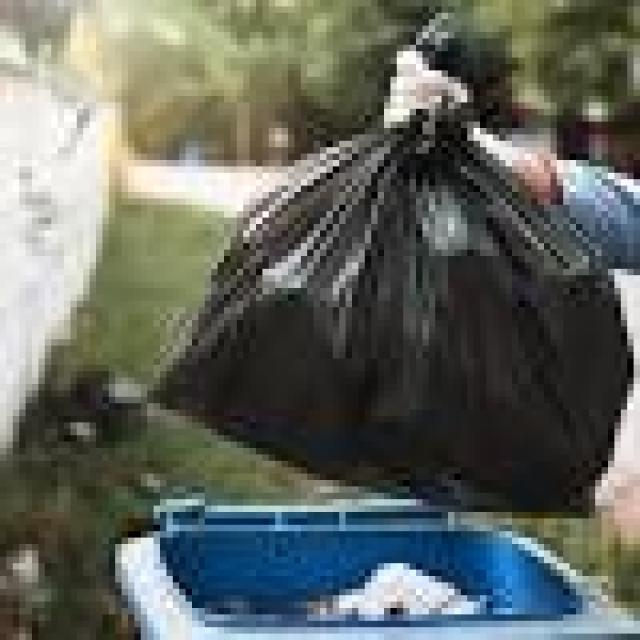Trashbag: (178, 118, 630, 526)
